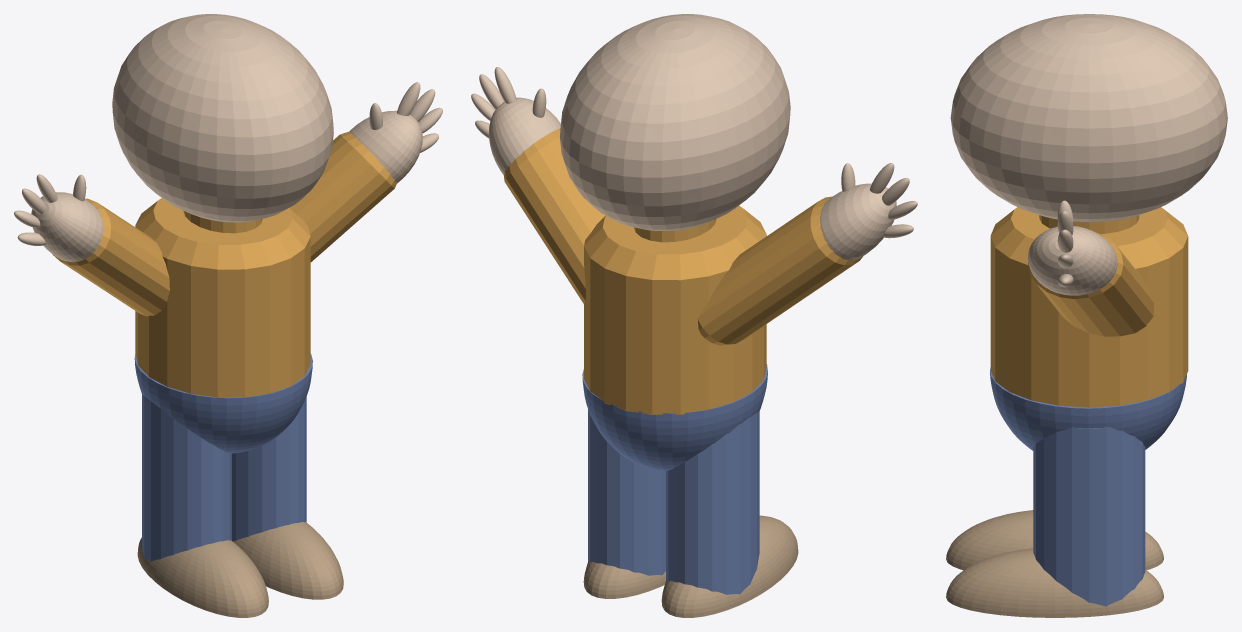
File: Tremendous Densor.glb
3 views of the same model, side by side, from view 1: azimuth 30°, elevation 25°; view 2: azimuth 150°, elevation 25°; view 3: azimuth 270°, elevation 25° (orthographic). The views are drawn at different scales.
Visible parts, largest first — view 1: Mesh_Mesh_head_geo.001_lambert2SG.001; view 2: Mesh_Mesh_head_geo.001_lambert2SG.001; view 3: Mesh_Mesh_head_geo.001_lambert2SG.001.
Part boxes in pixels (<box>): Mesh_Mesh_head_geo.001_lambert2SG.001: <box>14,14,442,617</box>; Mesh_Mesh_head_geo.001_lambert2SG.001: <box>471,14,917,617</box>; Mesh_Mesh_head_geo.001_lambert2SG.001: <box>946,14,1227,617</box>.
Bounding box in the file's own units: 11 × 13 × 6.
